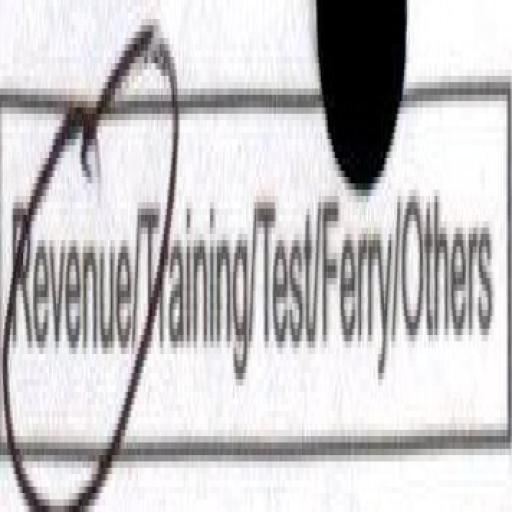check: (0, 93, 133, 461)
